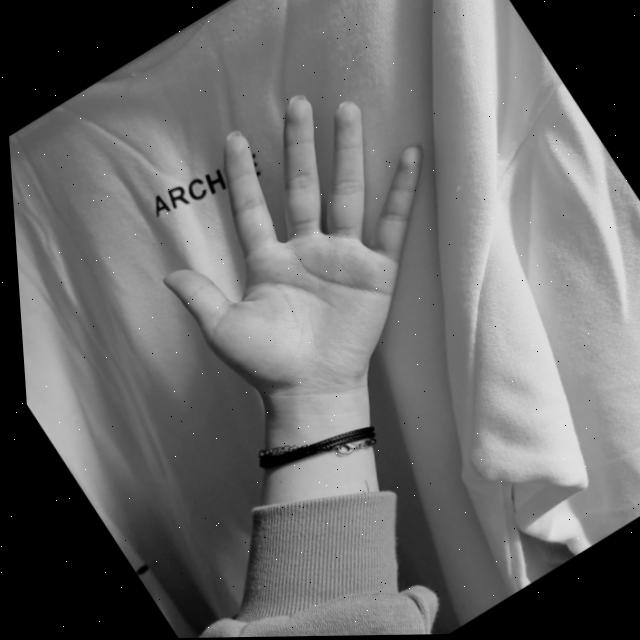hand: (95, 46, 543, 479)
